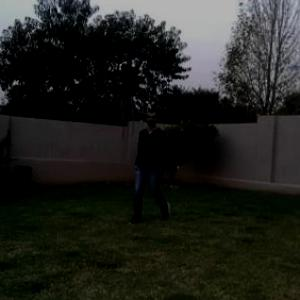follow: (133, 103, 167, 218)
